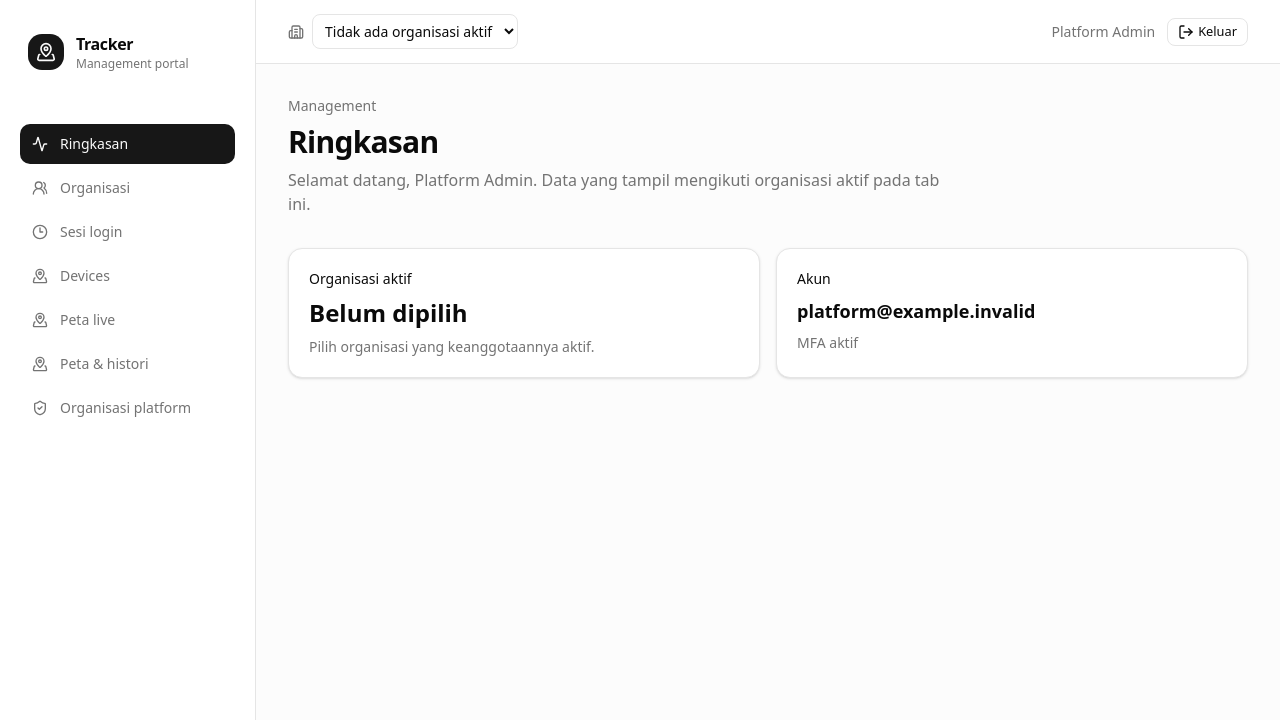
platform organization management › shows platform organization controls only for a platform admin profile
Click the link "Organisasi platform": (112, 408) [32,398,191,417]
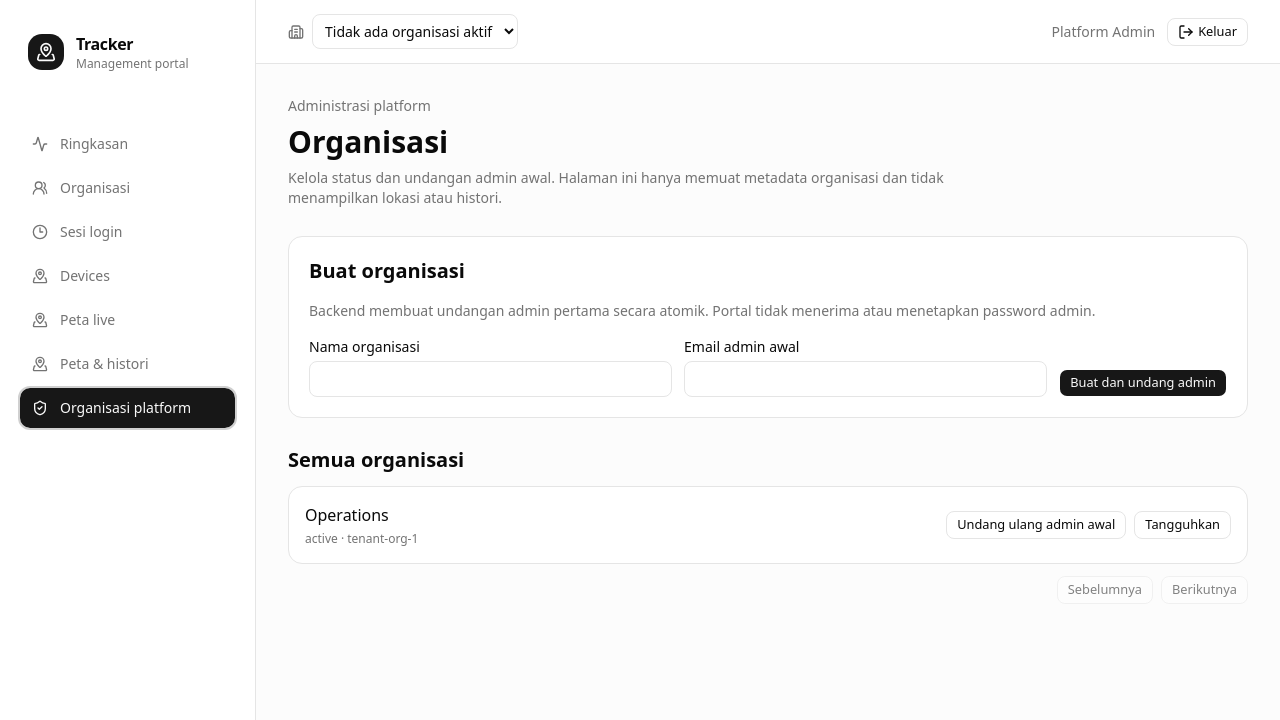
Result: the heading "Semua organisasi" is shown at [288,446,464,473]
Result: the heading "Operations" is shown at [305,504,389,526]
Result: the heading "Buat organisasi" is shown at [309,257,465,284]
